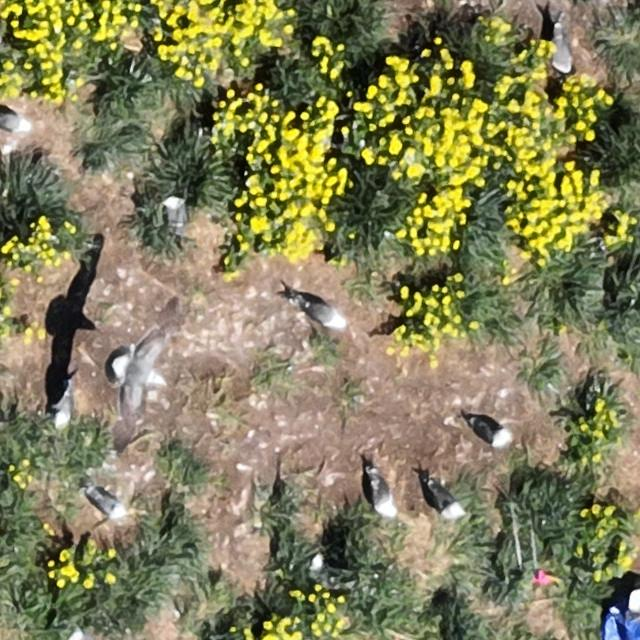F: (114, 342, 163, 415)
umineko: (300, 300, 344, 328), (429, 482, 461, 518), (371, 479, 396, 519), (471, 419, 507, 446), (90, 491, 124, 518), (554, 32, 572, 74), (166, 198, 185, 234), (0, 113, 30, 134), (54, 393, 72, 426)
